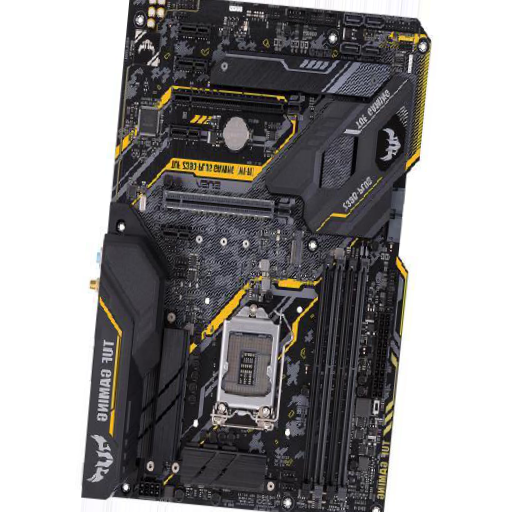CPU: (210, 305, 287, 432)
GPU: (169, 85, 307, 121), (161, 190, 296, 224)
MOTHERBOARD: (81, 2, 433, 510)
RAM: (300, 255, 373, 500)
SSD: (291, 231, 303, 265)
